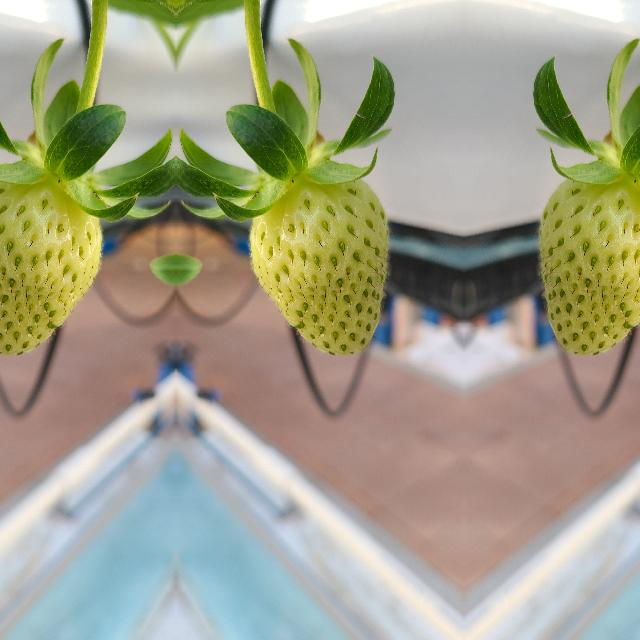Health_25: (246, 177, 392, 355), (534, 177, 640, 355), (0, 177, 104, 355)
